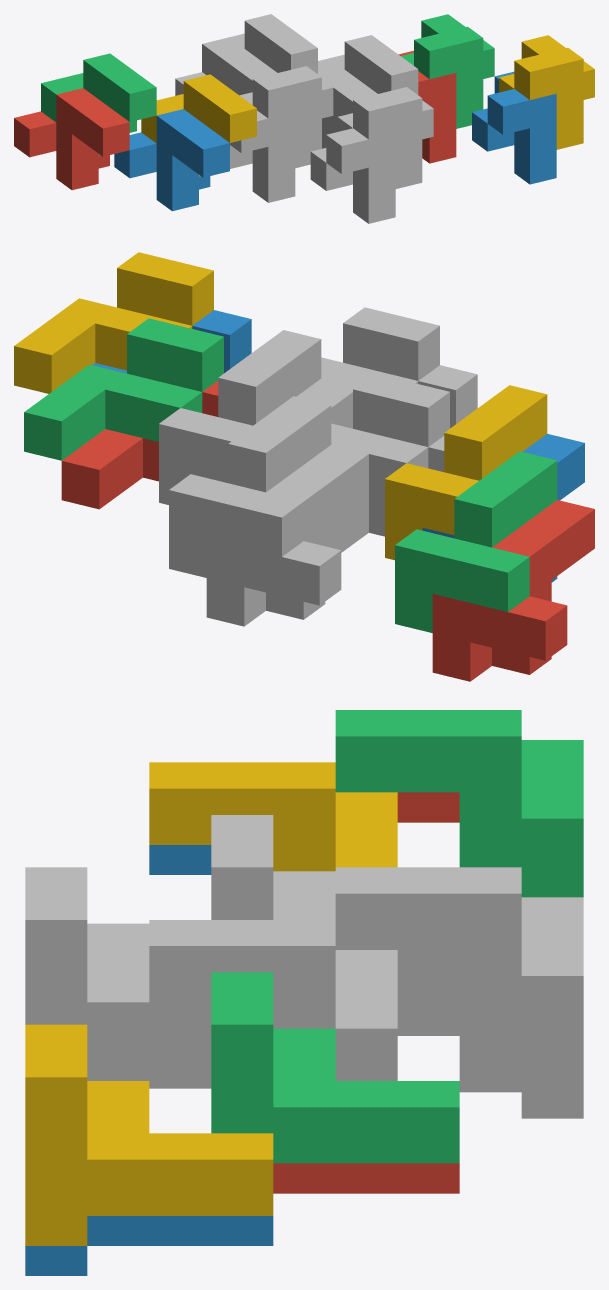
File: tiling.obj
3 views of the same model, one above another, from view 1: azimuth 30°, elevation 25°; view 2: azimuth 150°, elevation 25°; view 3: azimuth 270°, elevation 25° (orthographic). The views are drawn at different scales.
Parts seen in each view (by area): view 1: copy_1_domain_1, copy_1_domain_2, copy_2_domain_6, copy_2_domain_2, copy_2_domain_8, copy_2_domain_7, copy_2_domain_4, copy_2_domain_3, copy_1_domain_3, copy_2_domain_1, copy_1_domain_4, copy_1_domain_7 (+4 smaller); view 2: copy_1_domain_7, copy_1_domain_3, copy_2_domain_7, copy_1_domain_1, copy_1_domain_5, copy_2_domain_8, copy_1_domain_4, copy_1_domain_8, copy_2_domain_3, copy_2_domain_4, copy_2_domain_5, copy_2_domain_1 (+4 smaller); view 3: copy_1_domain_7, copy_2_domain_8, copy_1_domain_3, copy_2_domain_7, copy_1_domain_8, copy_2_domain_4, copy_1_domain_4, copy_2_domain_3, copy_2_domain_6, copy_2_domain_5, copy_1_domain_5, copy_2_domain_2 (+3 smaller).
Part boxes in pixels (x1,y1,x2,y2): copy_1_domain_1: (14,88,129,190); copy_1_domain_2: (114,109,229,211); copy_2_domain_6: (472,71,556,184); copy_2_domain_2: (310,116,395,223); copy_2_domain_8: (499,35,594,149); copy_2_domain_7: (401,14,494,128); copy_2_domain_4: (337,87,433,188); copy_2_domain_3: (239,66,333,168); copy_1_domain_3: (41,53,156,155); copy_2_domain_1: (230,110,295,202); copy_1_domain_4: (141,74,256,176); copy_1_domain_7: (202,14,317,79); copy_1_domain_7: (169,396,331,577); copy_1_domain_3: (395,451,557,632); copy_2_domain_7: (24,318,223,460); copy_1_domain_1: (432,500,594,681); copy_1_domain_5: (206,444,368,626); copy_2_domain_8: (14,252,213,393); copy_1_domain_4: (385,385,547,560); copy_1_domain_8: (159,330,321,504); copy_2_domain_3: (331,373,449,496); copy_2_domain_4: (321,307,439,386); copy_2_domain_5: (61,380,218,509); copy_2_domain_1: (325,436,444,552); copy_1_domain_7: (335,867,583,1088); copy_2_domain_8: (25,1024,273,1245); copy_1_domain_3: (335,710,583,897); copy_2_domain_7: (211,972,459,1163); copy_1_domain_8: (149,920,397,1080); copy_2_domain_4: (25,867,211,1058); copy_1_domain_4: (149,762,397,871); copy_2_domain_3: (211,815,459,1005); copy_2_domain_6: (25,1216,273,1275); copy_2_domain_5: (273,1163,459,1193); copy_1_domain_5: (459,1062,583,1118); copy_2_domain_2: (87,1058,211,1088).
Bounding box in the file's own units: 17 × 4 × 9.
